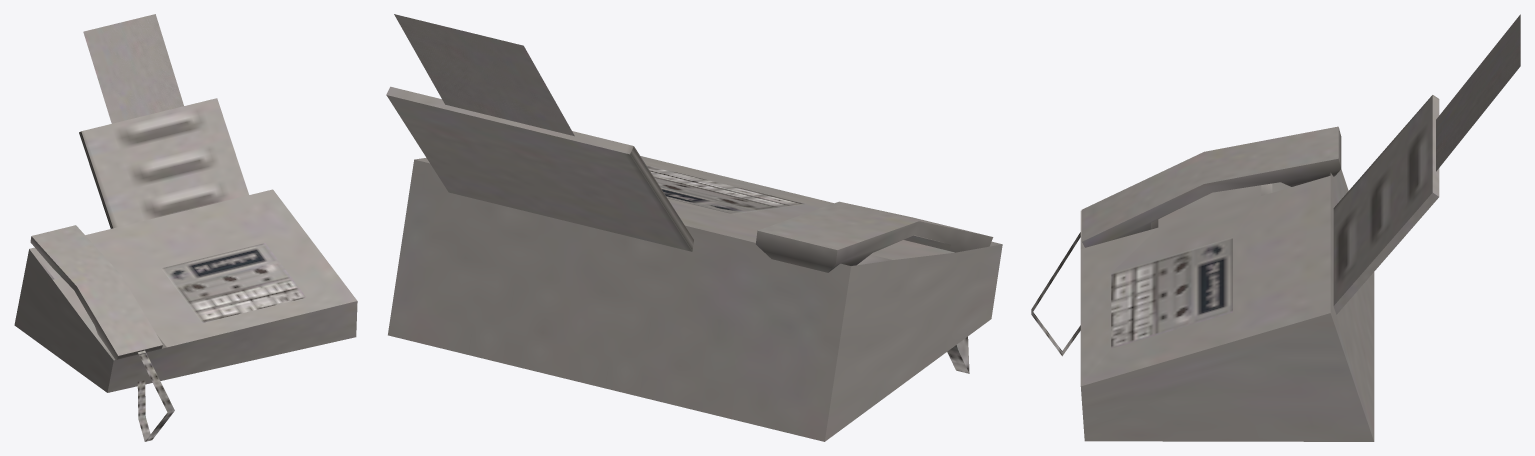
The model's file is M_Home_Garden_fax1.fbx.
The picture shows the model from 3 angles, left to right: view 1: azimuth 30°, elevation 25°; view 2: azimuth 150°, elevation 25°; view 3: azimuth 270°, elevation 25°; orthographic projection. The views are drawn at different scales.
Parts seen in each view (by area): view 1: M_Home_Garden_fax1; view 2: M_Home_Garden_fax1; view 3: M_Home_Garden_fax1.
Part boxes in pixels (left/top/right/bottom): M_Home_Garden_fax1: left=14, top=14, right=357, bottom=441; M_Home_Garden_fax1: left=386, top=14, right=1002, bottom=441; M_Home_Garden_fax1: left=1031, top=14, right=1520, bottom=441.
Size of the model in its own units: 52.84 by 56.72 by 62.17.
